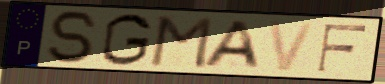A: (199, 19, 264, 70)
F: (314, 23, 370, 74)
G: (100, 11, 155, 67)
M: (147, 15, 216, 71)
S: (46, 9, 102, 66)
V: (266, 19, 319, 73)
